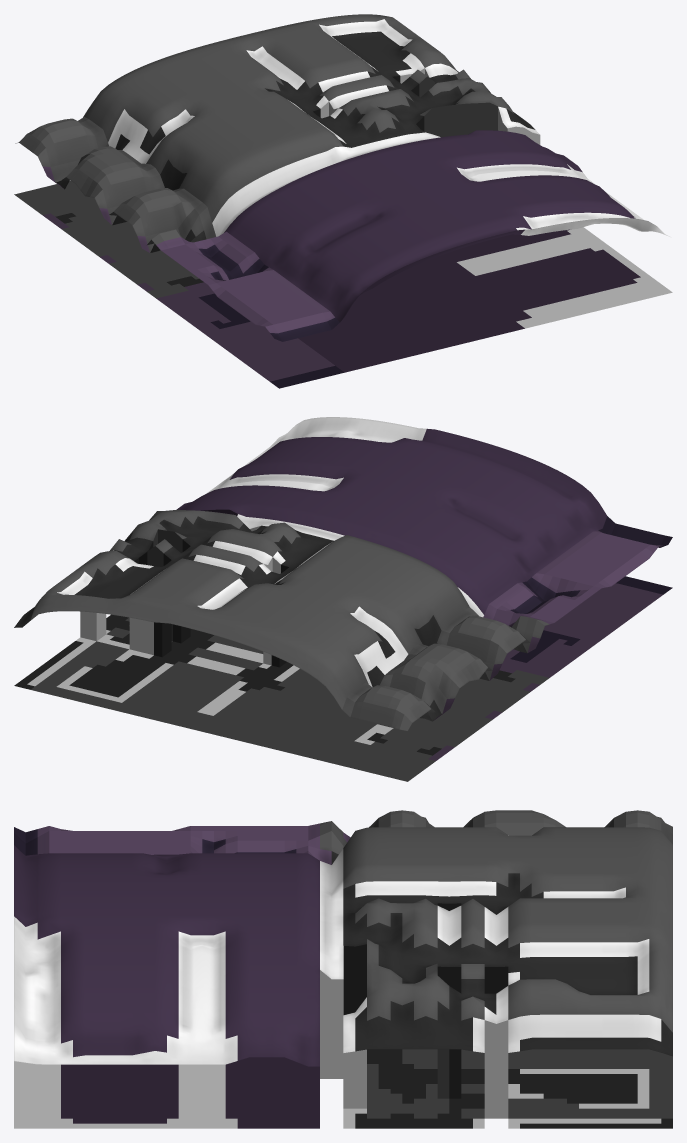
The model's file is delbld-hull-562.glb.
3 renders of one model, top to bottom at view 1: azimuth 30°, elevation 25°; view 2: azimuth 150°, elevation 25°; view 3: azimuth 270°, elevation 25°, orthographic. The views are drawn at different scales.
Visible parts, largest first — view 1: delbld-hull-562; view 2: delbld-hull-562; view 3: delbld-hull-562.
Part boxes in pixels (x1,y1,x2,y2): delbld-hull-562: (14, 14, 672, 388); delbld-hull-562: (14, 417, 672, 781); delbld-hull-562: (14, 810, 672, 1128).
Bounding box in the file's own units: 2 × 0.5302 × 2.33.
8 materials, 8 textured.
